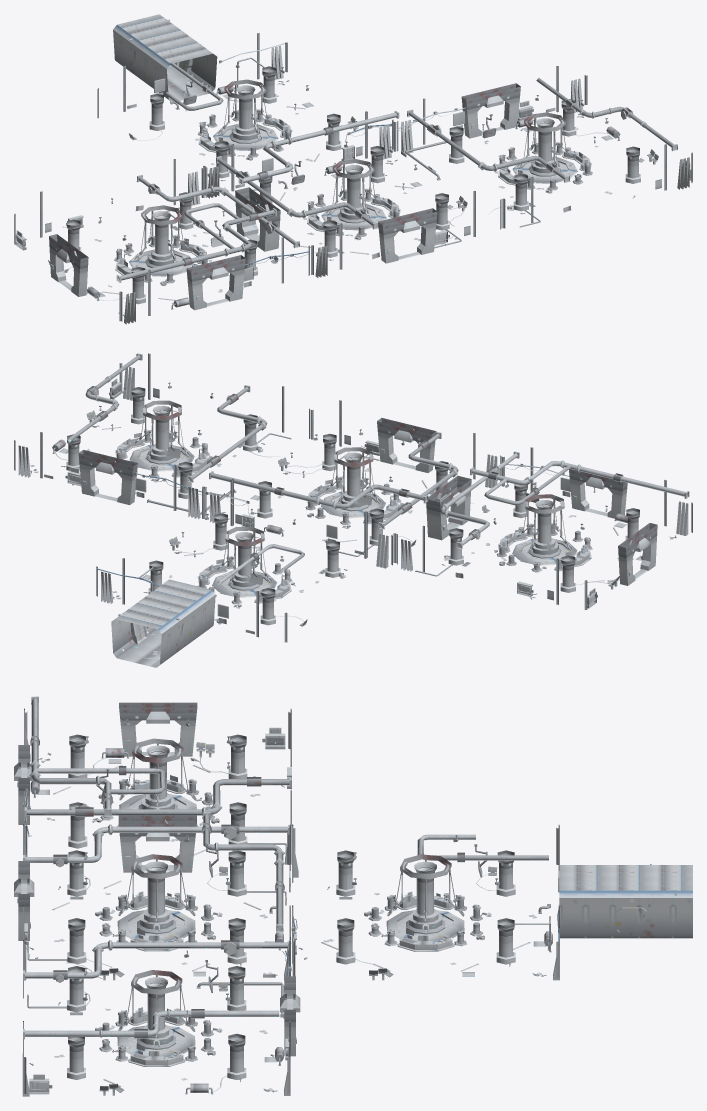
File: Combined_Mesh_root_scene__10_7ad9d44b__ZombiesII_laboratory_01_d_47037629_c1f257_part001.obj
The picture shows the model from 3 angles, top to bottom: view 1: azimuth 30°, elevation 25°; view 2: azimuth 150°, elevation 25°; view 3: azimuth 270°, elevation 25°; orthographic projection. The views are drawn at different scales.
Bounding box in the file's own units: 124 × 10.34 × 102.
541 materials, 541 textured.
